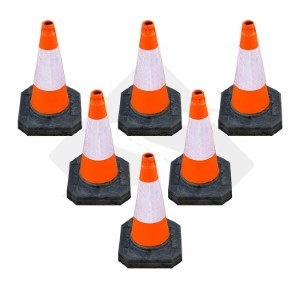traffic cone: (218, 19, 282, 137), (67, 89, 131, 206), (118, 20, 182, 137), (168, 89, 232, 206), (18, 21, 82, 137), (119, 152, 182, 268)
